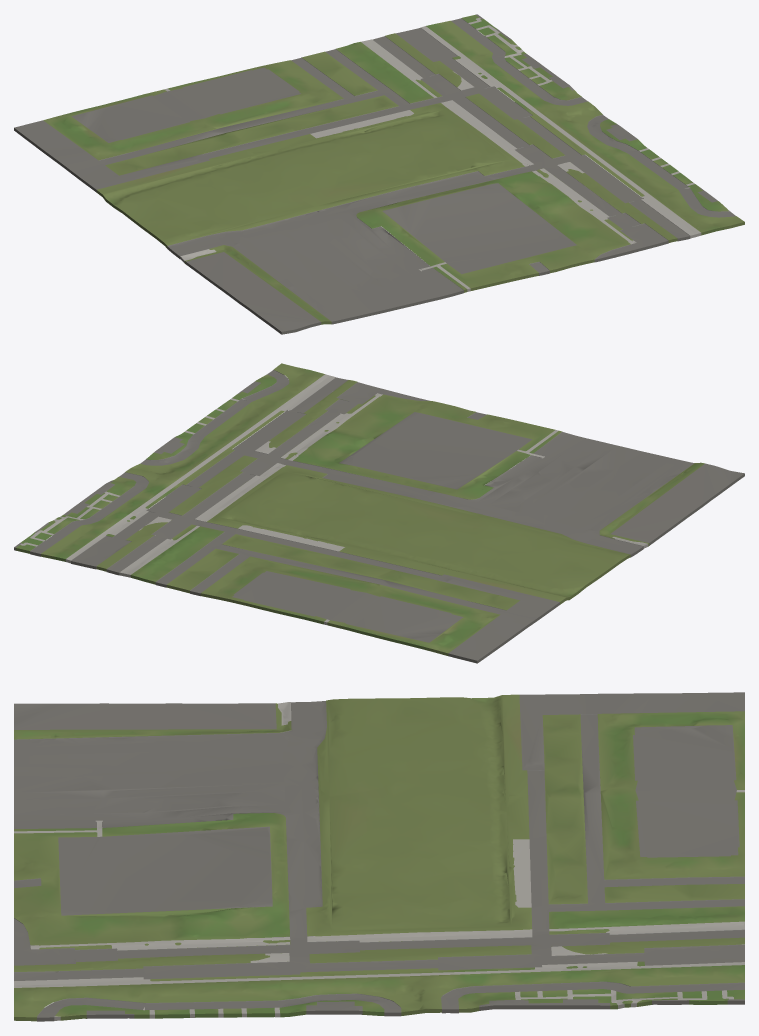
The picture shows the model from 3 angles, top to bottom: view 1: azimuth 30°, elevation 25°; view 2: azimuth 150°, elevation 25°; view 3: azimuth 270°, elevation 25°; orthographic projection. The views are drawn at different scales.
Visible parts, largest first — view 1: T--3-0.L2:utd:matte; view 2: T--3-0.L2:utd:matte; view 3: T--3-0.L2:utd:matte.
Boxes of the visible parts, x1=… form: T--3-0.L2:utd:matte: x1=14, y1=14, x2=744, y2=334; T--3-0.L2:utd:matte: x1=14, y1=363, x2=744, y2=663; T--3-0.L2:utd:matte: x1=14, y1=692, x2=744, y2=1021.
Size of the model in its own units: 256 by 9.31 by 256.
